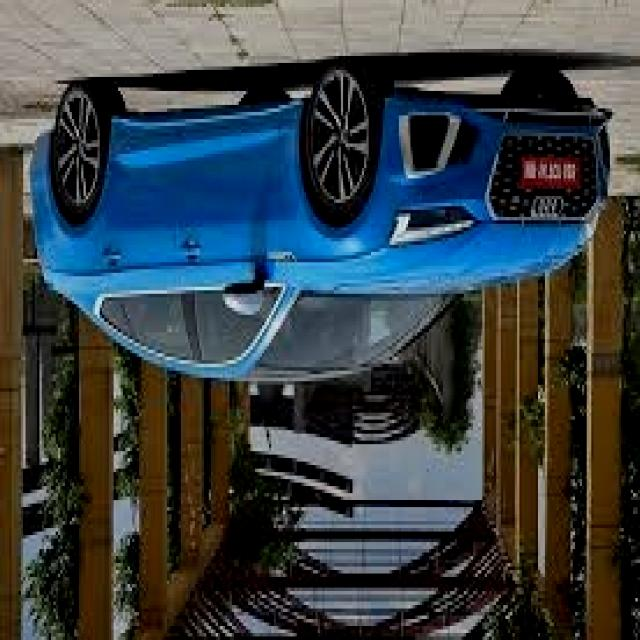blue: (33, 80, 614, 390)
